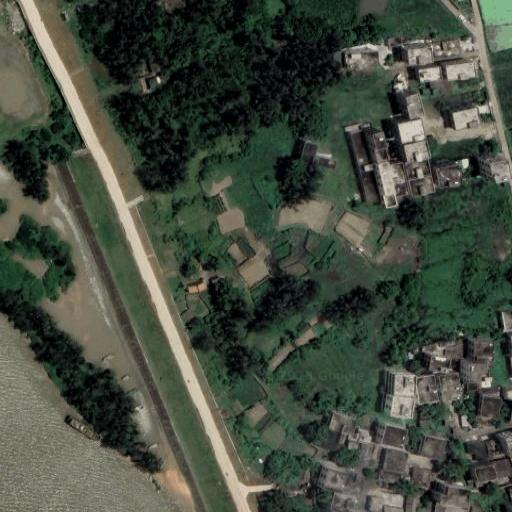building: (353, 162, 380, 207), (343, 126, 370, 170), (329, 412, 355, 445), (321, 466, 348, 494), (404, 461, 430, 489), (439, 486, 471, 508), (380, 424, 407, 449), (381, 448, 408, 473), (439, 373, 462, 402), (378, 161, 397, 196), (398, 120, 425, 144), (453, 108, 482, 130), (417, 375, 439, 403), (405, 139, 430, 163), (342, 471, 364, 498), (406, 158, 434, 179), (391, 164, 409, 196), (437, 166, 462, 189), (499, 333, 512, 376), (447, 62, 476, 81), (409, 175, 434, 197), (422, 435, 444, 460), (346, 52, 380, 68), (467, 440, 490, 462), (491, 161, 512, 185), (374, 133, 390, 164), (408, 47, 435, 65), (490, 458, 512, 480), (480, 395, 501, 418), (394, 375, 417, 396), (330, 492, 353, 512), (392, 397, 413, 417), (406, 95, 424, 118), (429, 356, 452, 374), (473, 342, 494, 361), (475, 465, 495, 484), (301, 143, 318, 164), (148, 73, 169, 90), (468, 364, 486, 383), (420, 67, 441, 82), (435, 504, 473, 512), (314, 156, 336, 169), (501, 309, 512, 330), (361, 444, 374, 461), (370, 497, 384, 512), (503, 435, 512, 458), (405, 496, 417, 512), (385, 194, 397, 208), (382, 505, 406, 512), (188, 283, 205, 292), (483, 387, 499, 396), (347, 439, 359, 449), (443, 42, 459, 49), (419, 419, 429, 426), (507, 486, 512, 497), (507, 389, 512, 399), (419, 414, 428, 419)
